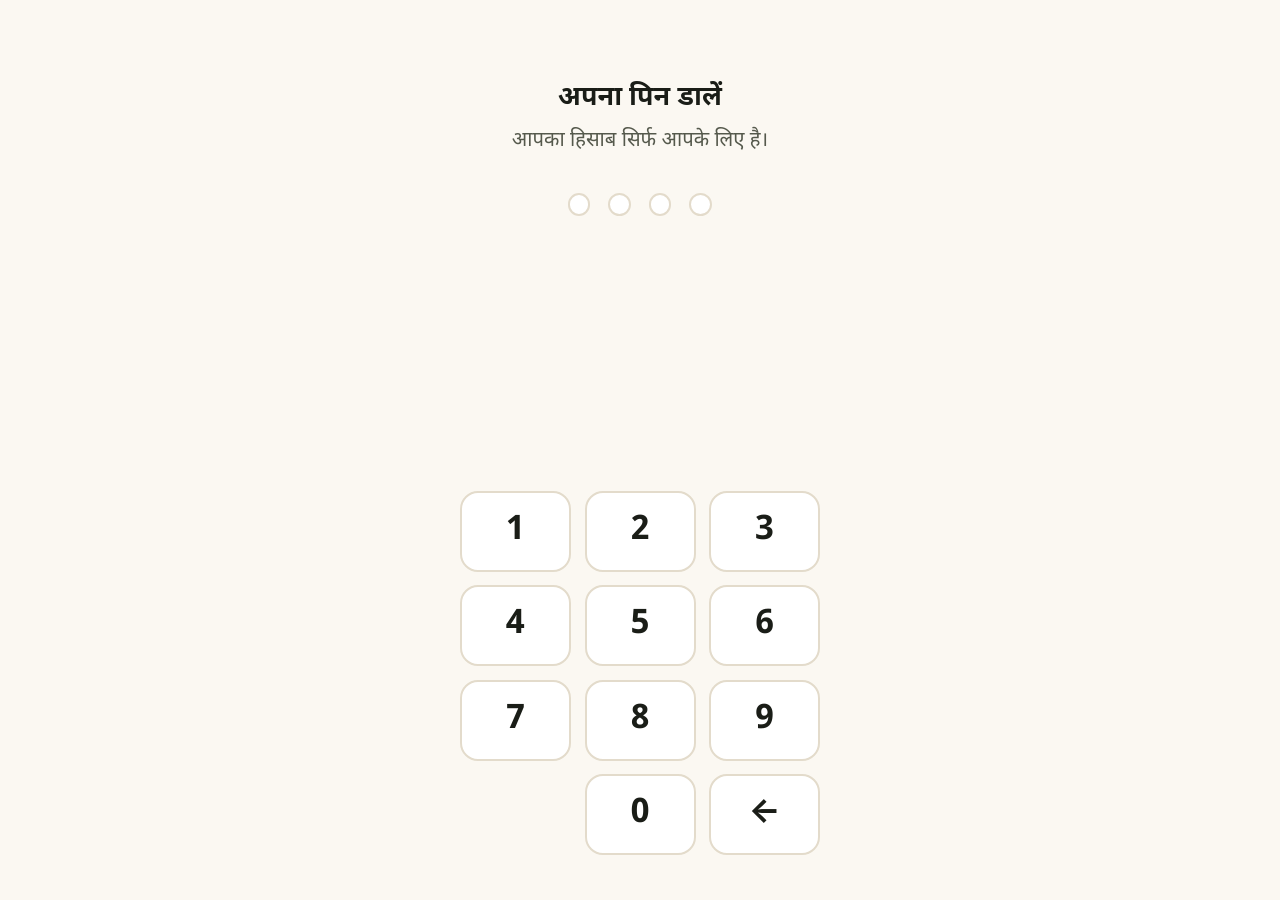
Test: every navigation destination opens › बिक्री
The width and height of the screenshot is (1280, 900).
Check: the heading "अपना पिन डालें" is shown, box [558,81,722,117]
Click the button "1" at (516, 531), box [460,490,571,572]
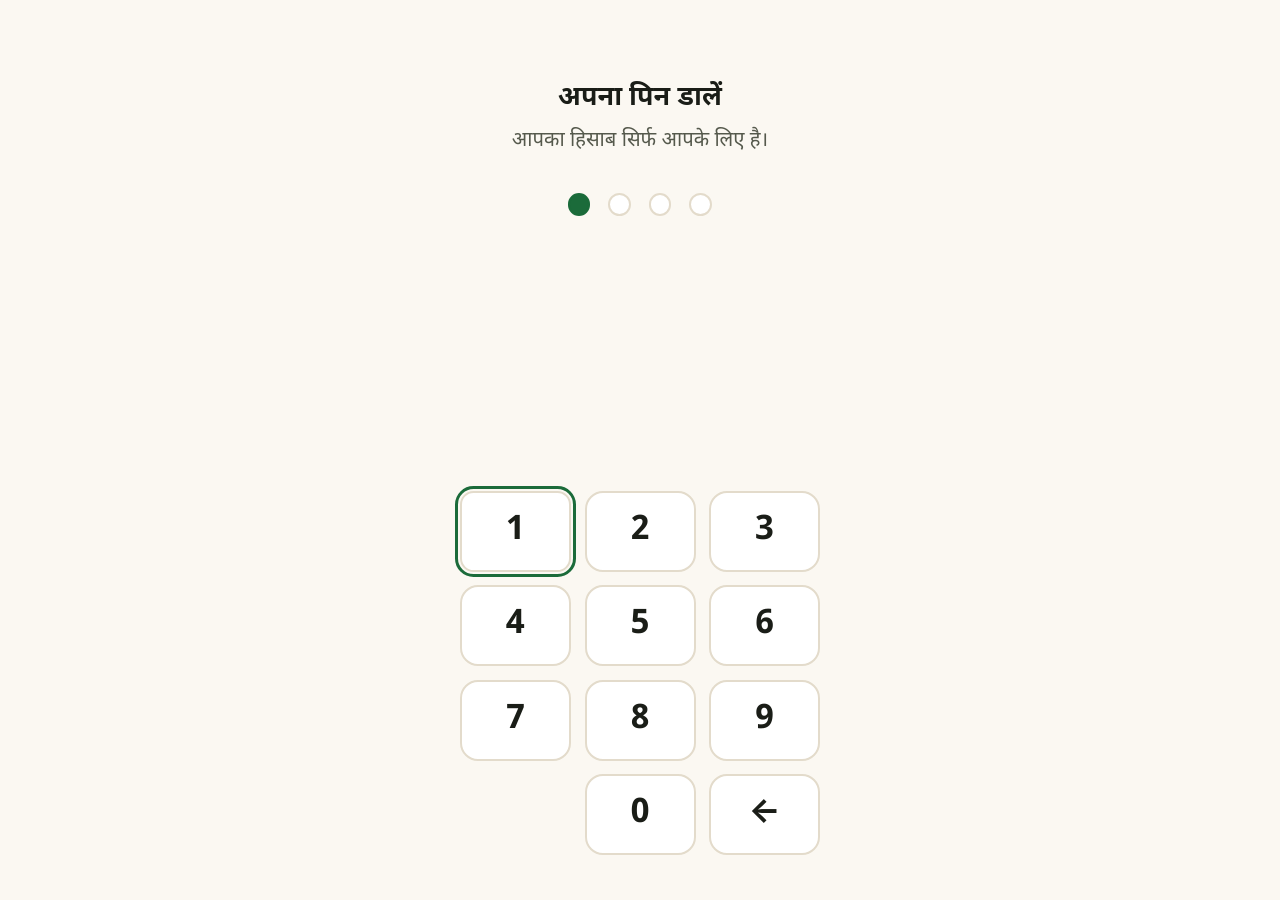
Click the button "2" at (640, 531), box [584,490,696,572]
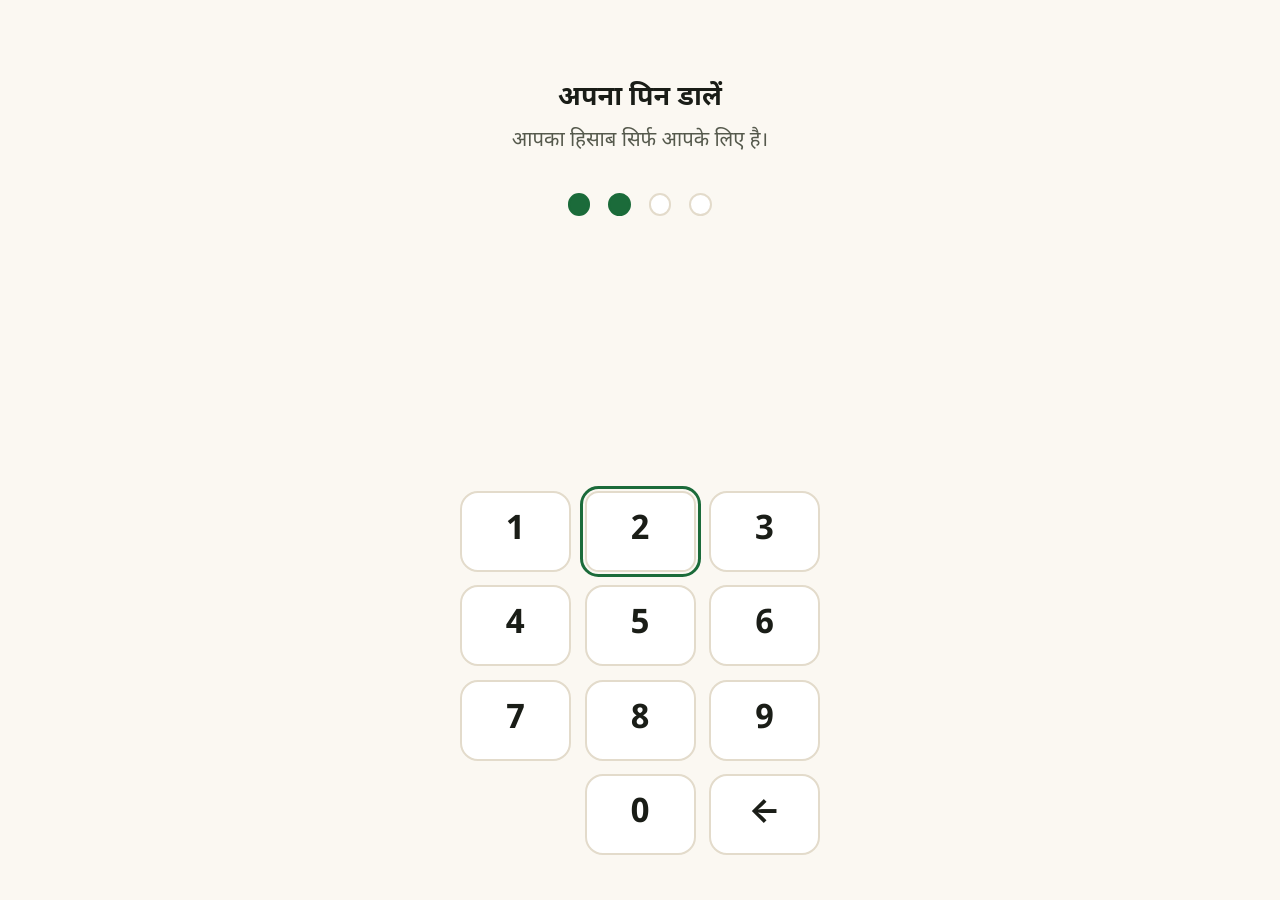
Click the button "3" at (764, 531), box [709,490,820,572]
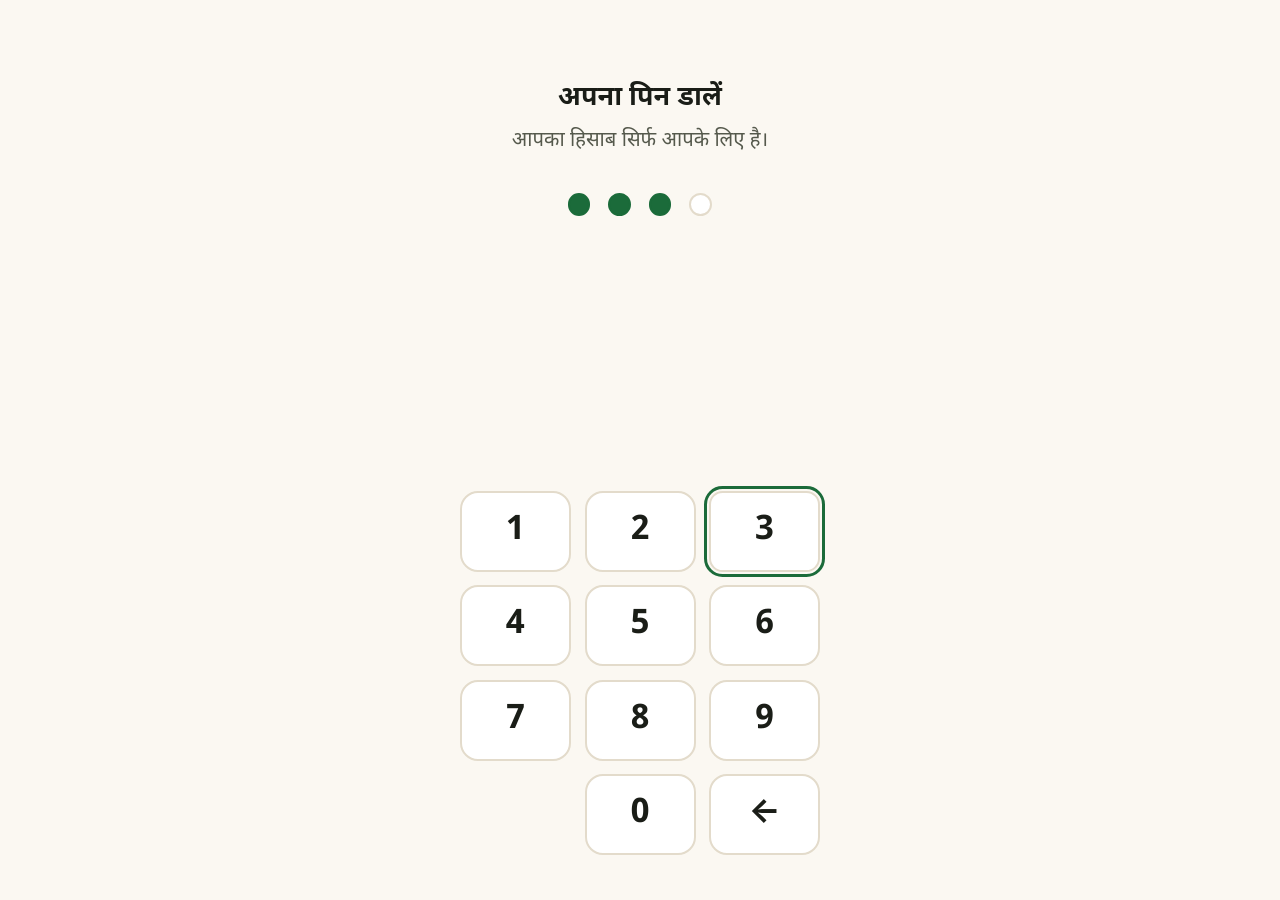
Click the button "4" at (516, 626), box [460,585,571,666]
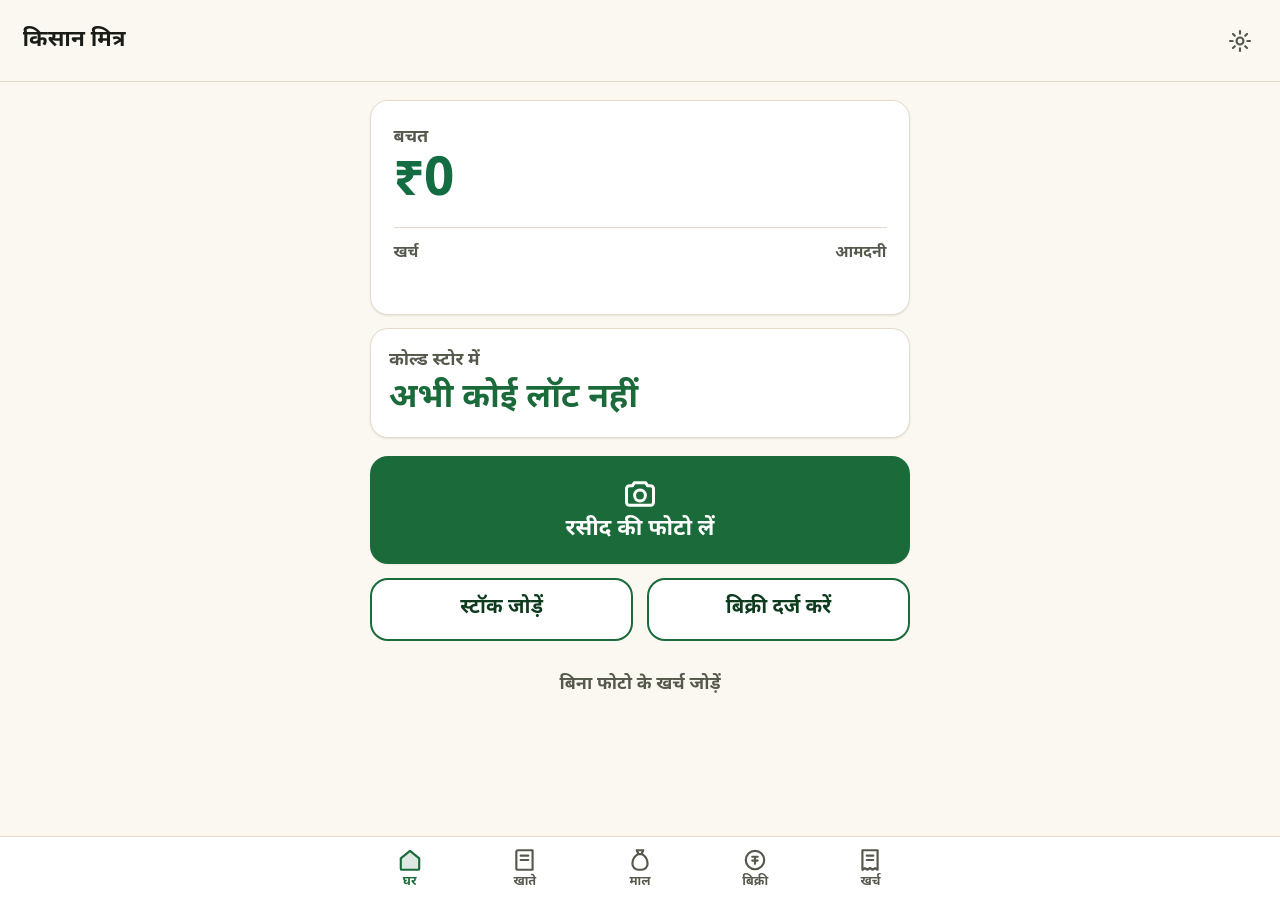
Check: the button "बिना फोटो के खर्च जोड़ें" is shown, box [370,654,910,717]
Click the button "बिक्री" at (755, 868), box [698,837,813,899]
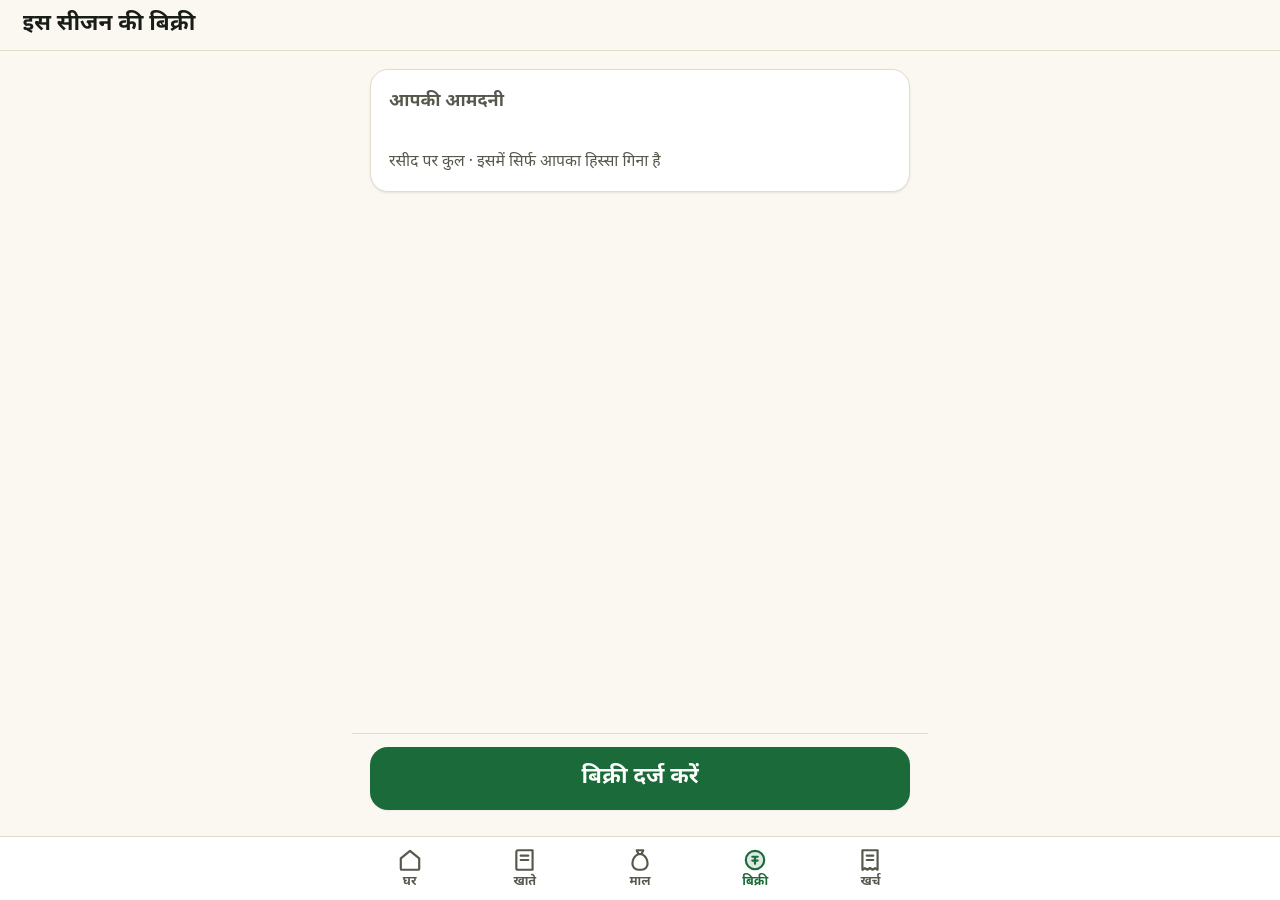
Check: the heading "इस सीजन की बिक्री" is shown, box [22,10,195,39]
